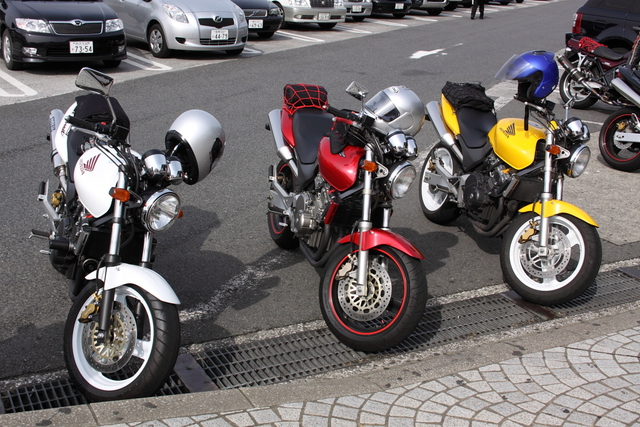helmet: (170, 107, 239, 172), (367, 89, 434, 139), (501, 56, 563, 104)
